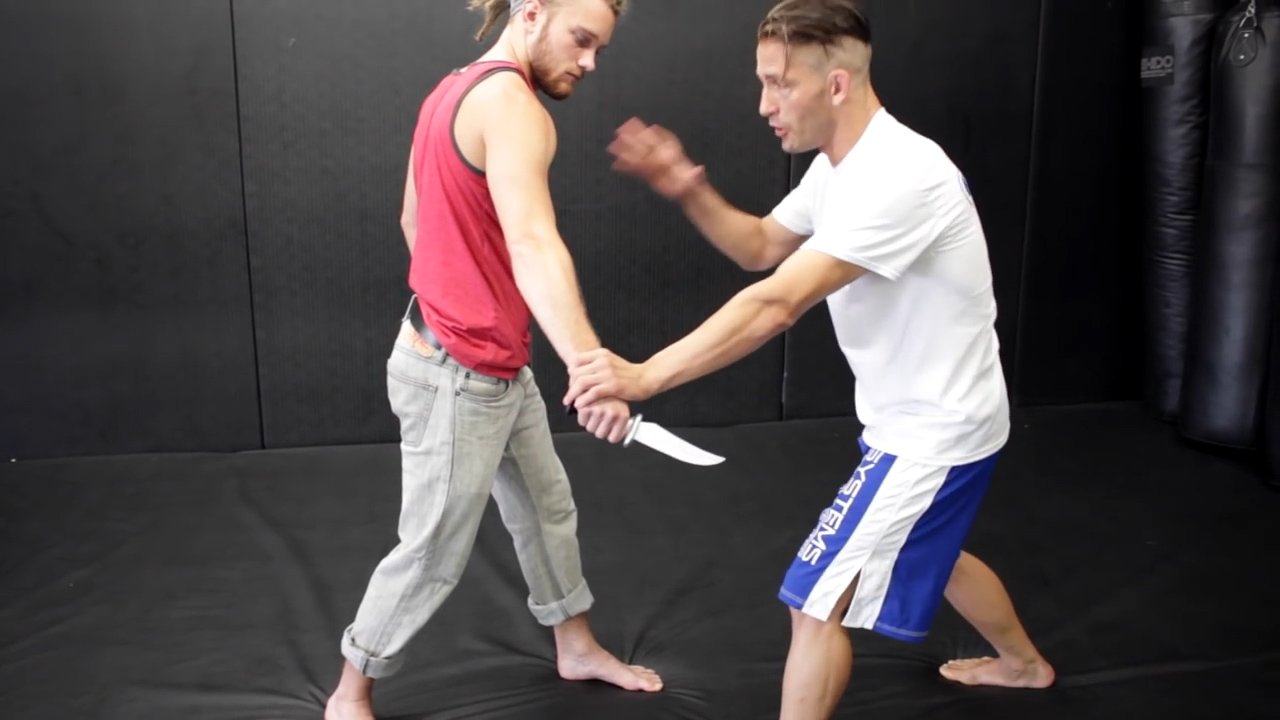knife: (562, 397, 735, 477)
